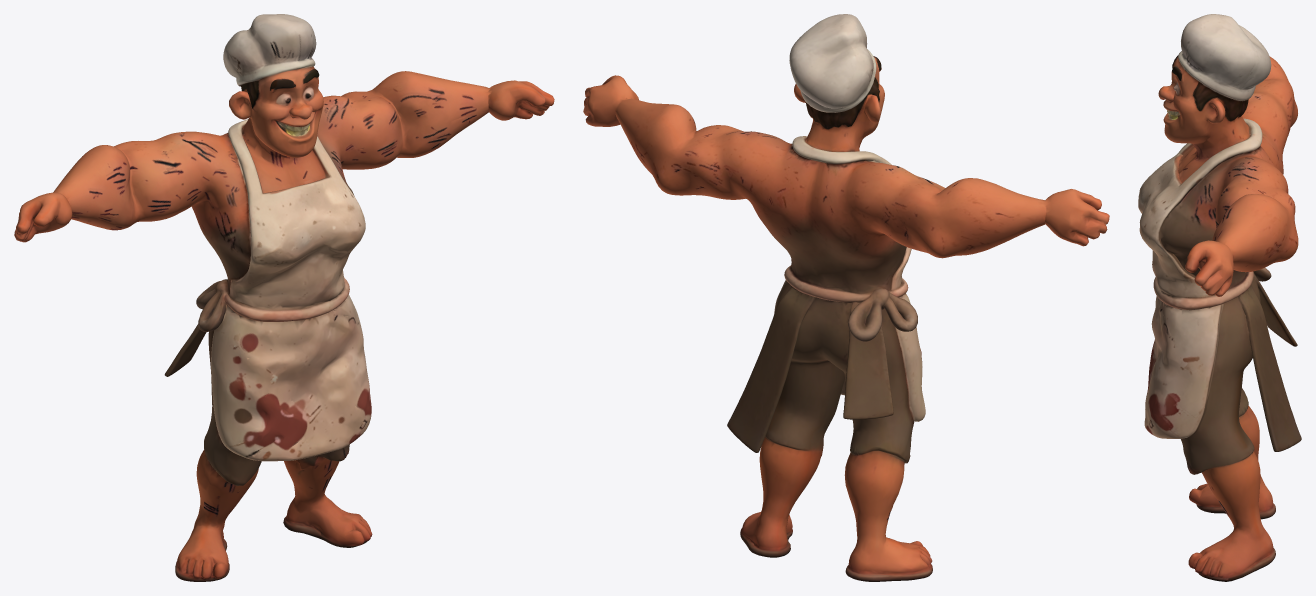
File: cleaver_jo.glb
3 views of the same model, side by side, from view 1: azimuth 30°, elevation 25°; view 2: azimuth 150°, elevation 25°; view 3: azimuth 270°, elevation 25° (orthographic). The views are drawn at different scales.
Visible parts, largest first — view 1: tripo_node_11422160-af0a-48d0-b78f-c517611feb18; view 2: tripo_node_11422160-af0a-48d0-b78f-c517611feb18; view 3: tripo_node_11422160-af0a-48d0-b78f-c517611feb18.
Boxes of the visible parts, x1,y1,x2,y2 form: tripo_node_11422160-af0a-48d0-b78f-c517611feb18: [14, 14, 554, 581]; tripo_node_11422160-af0a-48d0-b78f-c517611feb18: [583, 14, 1109, 581]; tripo_node_11422160-af0a-48d0-b78f-c517611feb18: [1138, 14, 1301, 581].
Size of the model in its own units: 0.9796 by 0.9481 by 0.27.
1 material, 1 textured.
